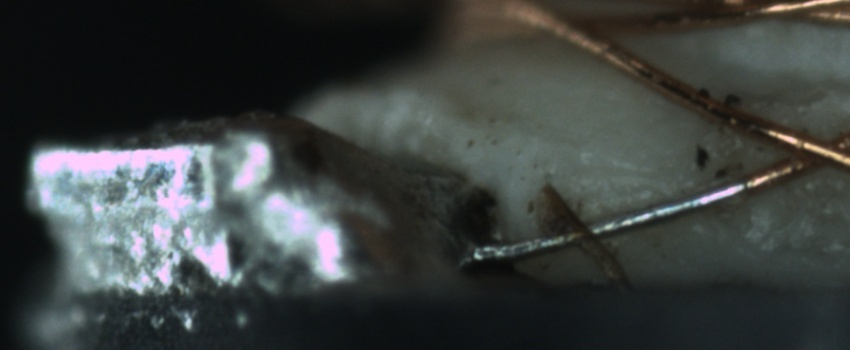CL: (729, 108, 850, 196)
DL: (535, 148, 680, 200)
TS: (475, 182, 748, 261)
